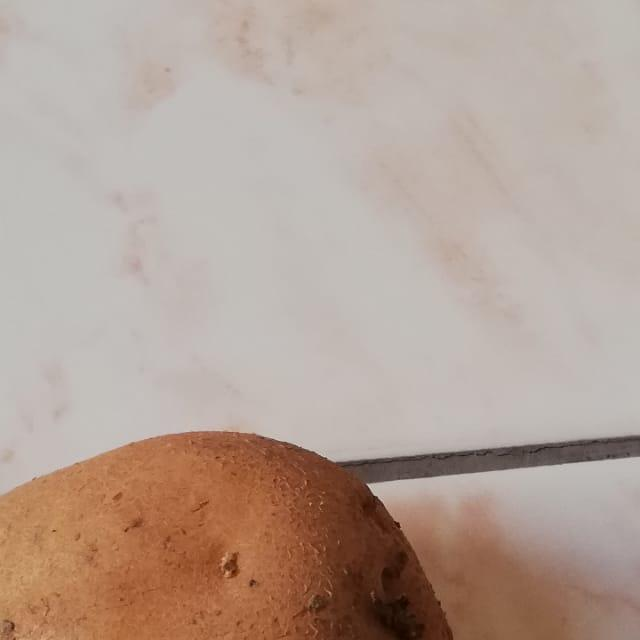potato: (0, 399, 471, 640)
